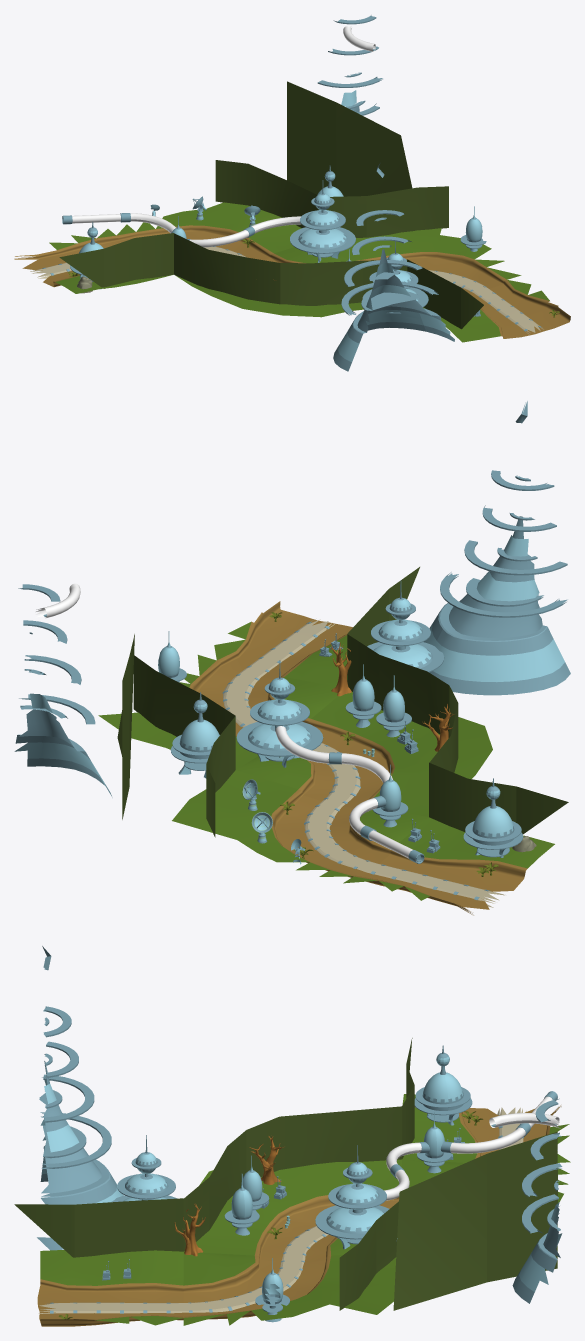
File: planet.glb
3 views of the same model, one above another, from view 1: azimuth 30°, elevation 25°; view 2: azimuth 150°, elevation 25°; view 3: azimuth 270°, elevation 25° (orthographic). The views are drawn at different scales.
Parts seen in each view (by area): view 1: VuMaterialAsset_Plant_Treeline, VuMaterialAsset_Natural_Grass, VuMaterialAsset_Building_Alien_Alien_WallDetail, VuMaterialAsset_Natural_GrassToMudB, VuMaterialAsset_Building_Alien_Alien_Wall, VuMaterialAsset_Building_Glass, VuMaterialAsset_Building_Alien_Alien_Road; view 2: VuMaterialAsset_Building_Alien_Alien_WallDetail, VuMaterialAsset_Natural_Grass, VuMaterialAsset_Plant_Treeline, VuMaterialAsset_Natural_GrassToMudB, VuMaterialAsset_Building_Alien_Alien_Wall, VuMaterialAsset_Building_Alien_Alien_Road, VuMaterialAsset_Building_Glass, VuMaterialAsset_Plant_TreeTrunkB; view 3: VuMaterialAsset_Plant_Treeline, VuMaterialAsset_Natural_Grass, VuMaterialAsset_Building_Alien_Alien_WallDetail, VuMaterialAsset_Natural_GrassToMudB, VuMaterialAsset_Building_Alien_Alien_Wall, VuMaterialAsset_Building_Alien_Alien_Road, VuMaterialAsset_Building_Glass, VuMaterialAsset_Plant_TreeTrunkB.
Boxes of the visible parts, <box> form: VuMaterialAsset_Plant_Treeline: <box>59,81,483,329</box>; VuMaterialAsset_Natural_Grass: <box>49,202,549,342</box>; VuMaterialAsset_Building_Alien_Alien_WallDetail: <box>42,15,541,371</box>; VuMaterialAsset_Natural_GrassToMudB: <box>14,225,570,338</box>; VuMaterialAsset_Building_Alien_Alien_Wall: <box>79,90,482,362</box>; VuMaterialAsset_Building_Glass: <box>72,26,375,247</box>; VuMaterialAsset_Building_Alien_Alien_Road: <box>30,246,543,334</box>; VuMaterialAsset_Building_Alien_Alien_WallDetail: <box>15,401,570,900</box>; VuMaterialAsset_Natural_Grass: <box>98,622,554,900</box>; VuMaterialAsset_Plant_Treeline: <box>117,567,568,837</box>; VuMaterialAsset_Natural_GrassToMudB: <box>189,601,527,915</box>; VuMaterialAsset_Building_Alien_Alien_Wall: <box>14,535,564,864</box>; VuMaterialAsset_Building_Alien_Alien_Road: <box>223,619,504,907</box>; VuMaterialAsset_Building_Glass: <box>35,583,416,862</box>; VuMaterialAsset_Plant_TreeTrunkB: <box>329,642,454,751</box>; VuMaterialAsset_Plant_Treeline: <box>14,1038,557,1310</box>; VuMaterialAsset_Natural_Grass: <box>40,1094,570,1325</box>; VuMaterialAsset_Building_Alien_Alien_WallDetail: <box>37,946,562,1322</box>; VuMaterialAsset_Natural_GrassToMudB: <box>37,1105,561,1326</box>; VuMaterialAsset_Building_Alien_Alien_Wall: <box>40,1056,562,1301</box>; VuMaterialAsset_Building_Alien_Alien_Road: <box>38,1107,526,1313</box>; VuMaterialAsset_Building_Glass: <box>384,1096,560,1200</box>; VuMaterialAsset_Plant_TreeTrunkB: <box>174,1136,284,1256</box>.
Size of the model in its own units: 162 by 86.56 by 163.
